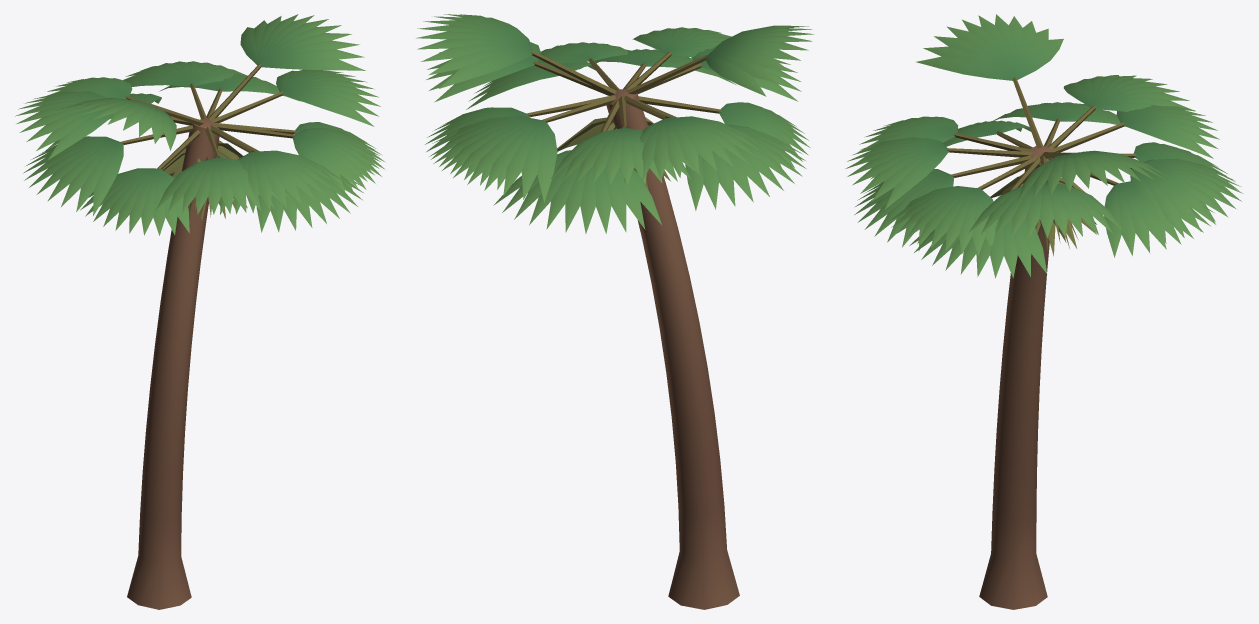
The model's file is palm_0.glb.
3 views of the same model, side by side, from view 1: azimuth 30°, elevation 25°; view 2: azimuth 150°, elevation 25°; view 3: azimuth 270°, elevation 25° (orthographic). The views are drawn at different scales.
Parts seen in each view (by area): view 1: Tronco0; view 2: Tronco0; view 3: Tronco0.
Part boxes in pixels (box(x1,y1,x2,y2)): Tronco0: box(15, 14, 385, 609); Tronco0: box(416, 14, 814, 609); Tronco0: box(845, 14, 1243, 609).
Bounding box in the file's own units: 5.4 × 8.25 × 5.41.
